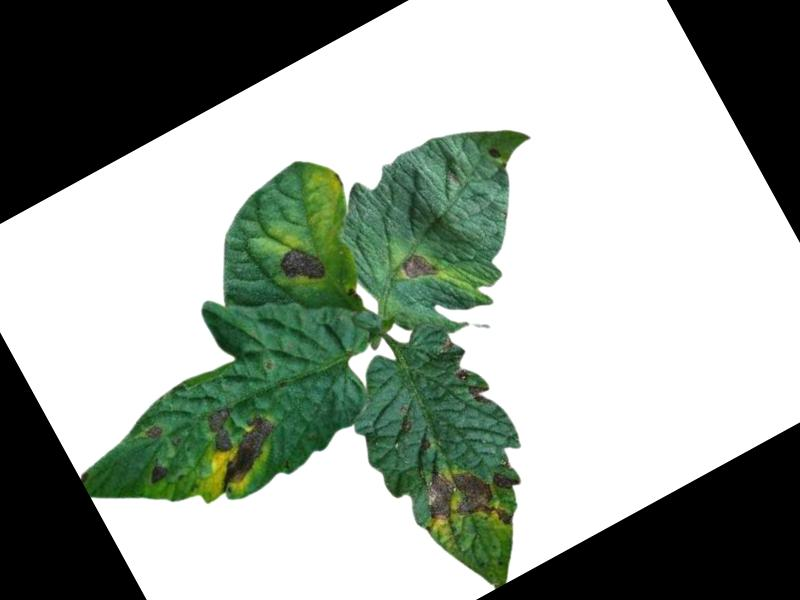Early_blight: (412, 449, 516, 555), (186, 388, 292, 492), (276, 239, 328, 293), (452, 361, 494, 411), (398, 246, 440, 285), (488, 463, 522, 497), (143, 458, 173, 487), (142, 419, 166, 441), (487, 143, 505, 162)
